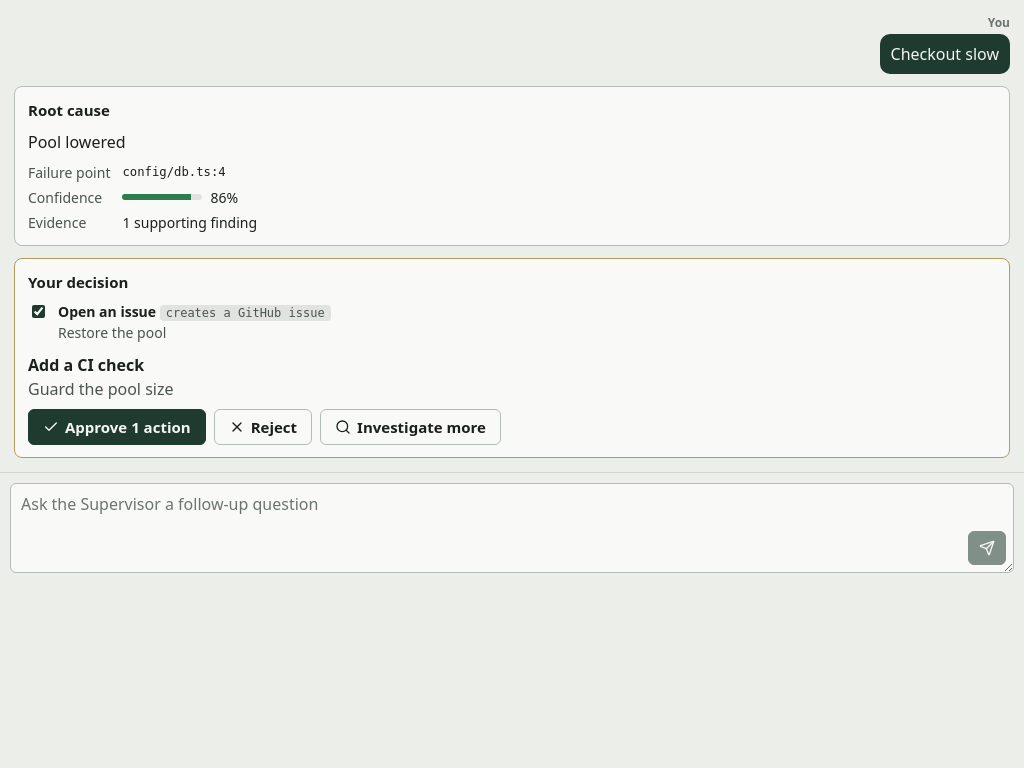
Scenario: unticking every write action disables approve
Click the checkbox: (38, 312) [32,305,45,318]
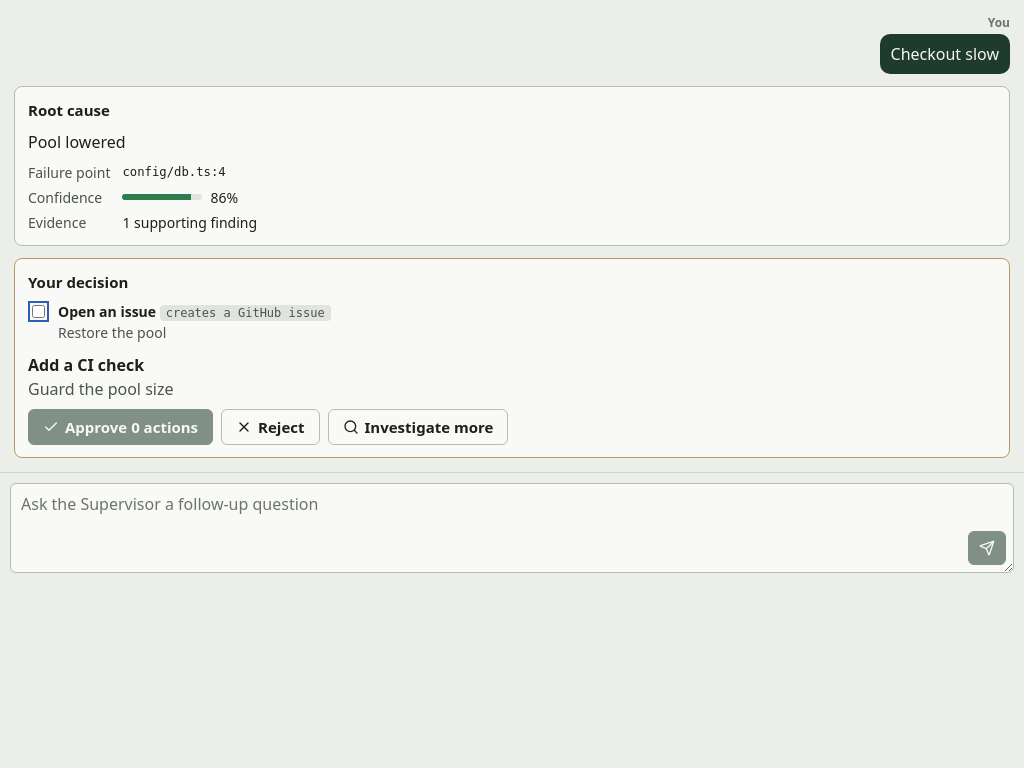
expect the button "Approve 0 actions" is disabled: met, box [28,409,213,445]
